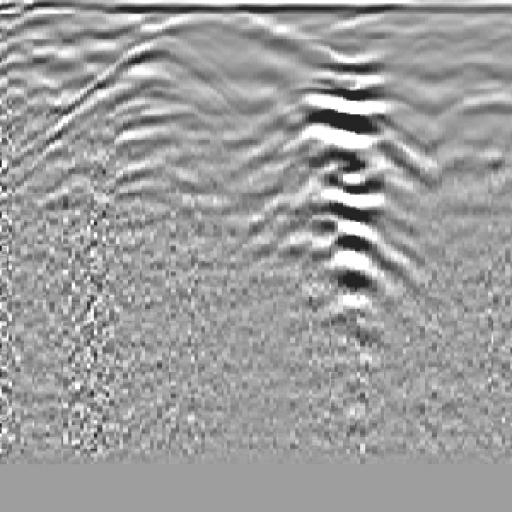metalic: (277, 45, 439, 357)
